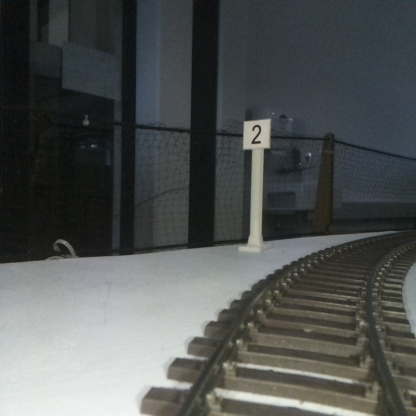white-info-2: (242, 119, 270, 249)
